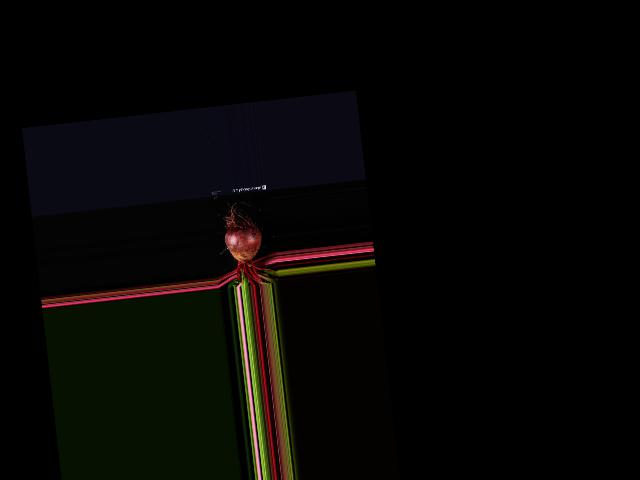beet: (219, 195, 279, 287)
